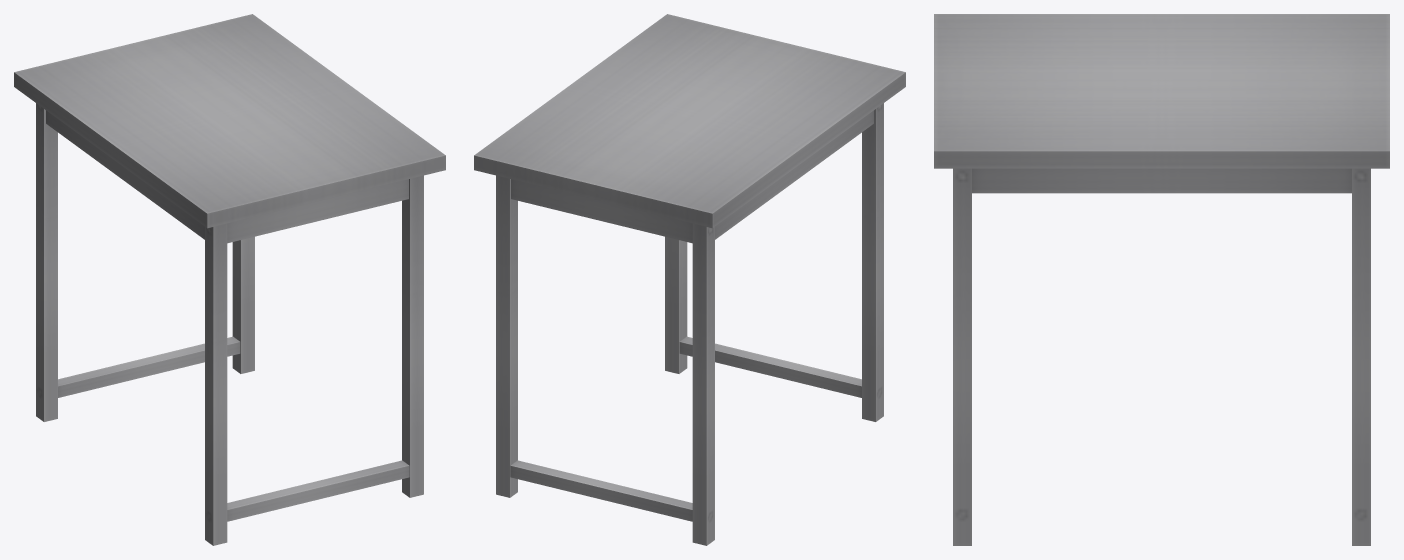
The model's file is jsf_SideTable_01.fbx.
3 renders of one model, left to right at view 1: azimuth 30°, elevation 25°; view 2: azimuth 150°, elevation 25°; view 3: azimuth 270°, elevation 25°, orthographic. The views are drawn at different scales.
Parts seen in each view (by area): view 1: jsf_SideTable_01; view 2: jsf_SideTable_01; view 3: jsf_SideTable_01.
Part boxes in pixels (<box>): jsf_SideTable_01: <box>14,14,445,545</box>; jsf_SideTable_01: <box>474,14,905,545</box>; jsf_SideTable_01: <box>934,14,1389,545</box>.
Size of the model in its own units: 51.19 by 70 by 71.81.
